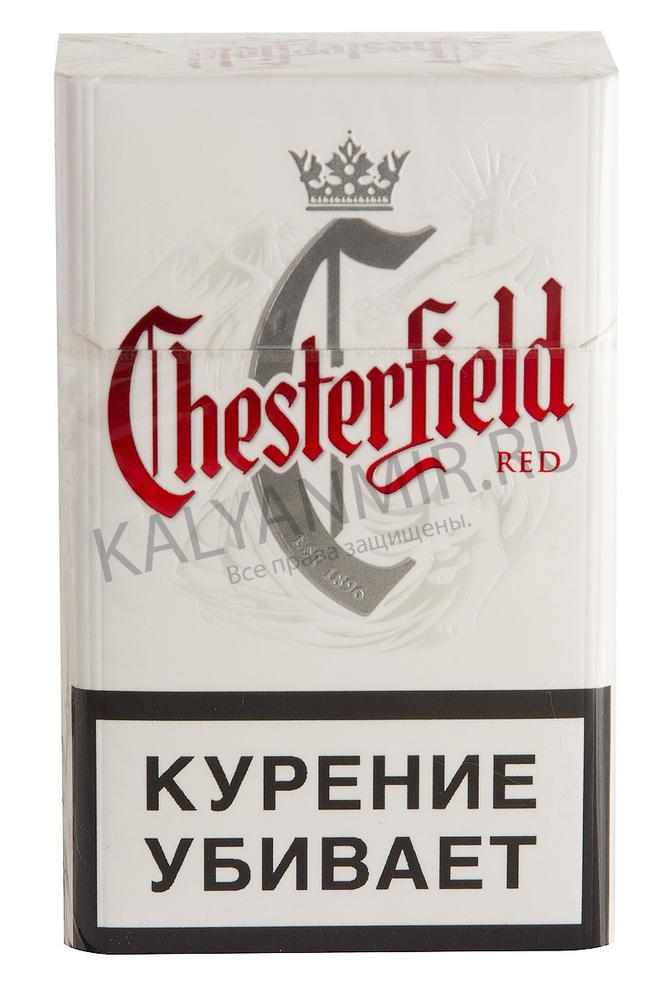chesterfield_red: (59, 79, 606, 951)
